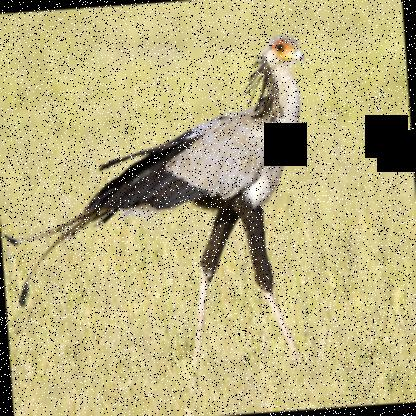Sagittarius serpentarius: (0, 31, 330, 412)
